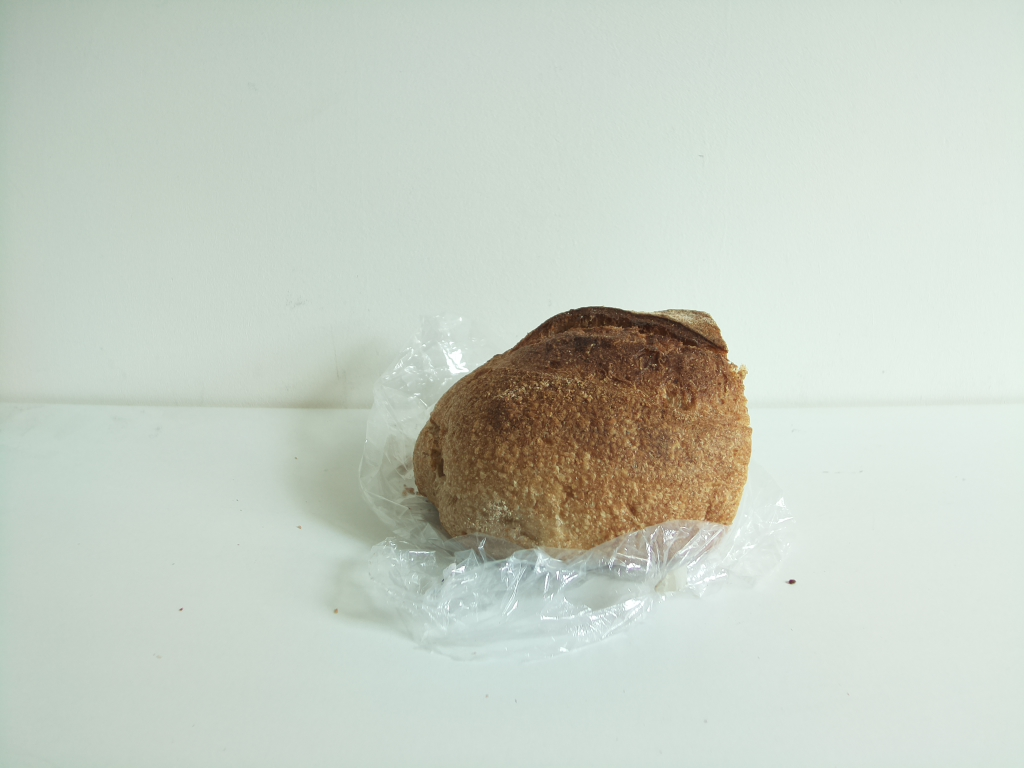bread: (410, 303, 752, 575)
